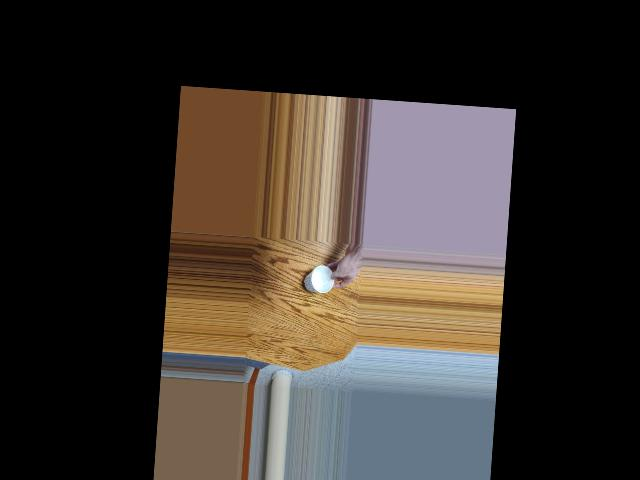cotage: (306, 264, 339, 296)
